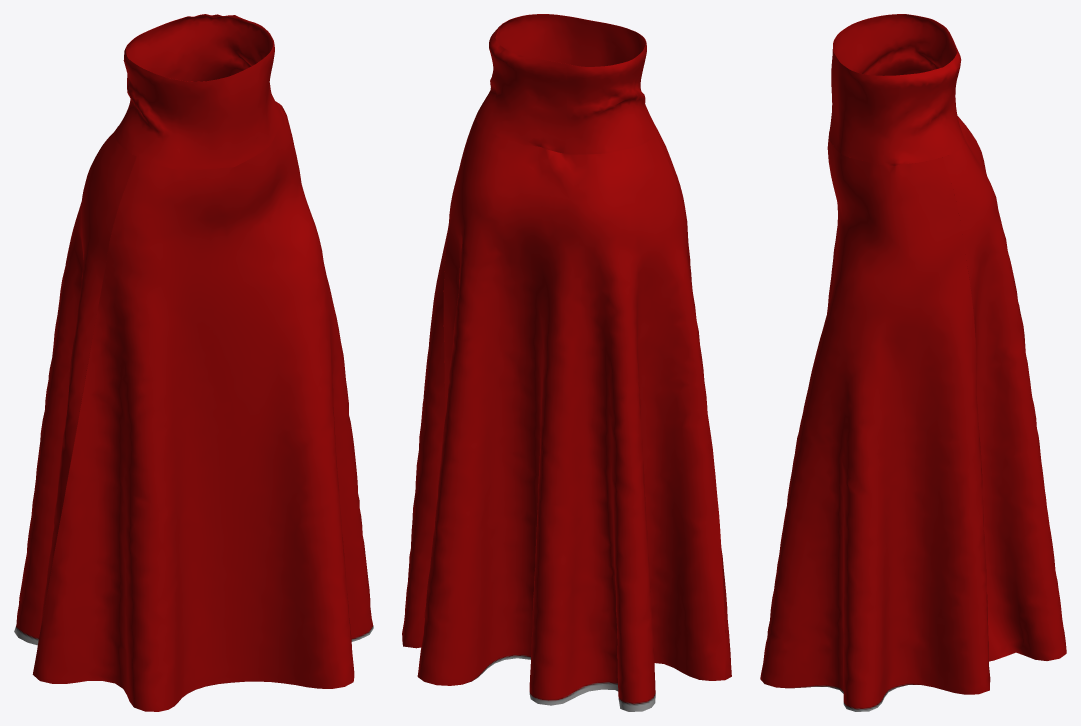
Rendered from female_skirt.glb.
3 renders of one model, left to right at view 1: azimuth 30°, elevation 25°; view 2: azimuth 150°, elevation 25°; view 3: azimuth 270°, elevation 25°, orthographic. The views are drawn at different scales.
Parts seen in each view (by area): view 1: Object_2, Object_5; view 2: Object_2, Object_5; view 3: Object_2, Object_5.
Boxes of the visible parts, left/top/right/bottom form: Object_2: left=14, top=106, right=373, bottom=711; Object_5: left=115, top=14, right=282, bottom=169; Object_2: left=402, top=115, right=731, bottom=711; Object_5: left=476, top=14, right=657, bottom=154; Object_2: left=760, top=116, right=1066, bottom=711; Object_5: left=829, top=14, right=965, bottom=165.
Size of the model in its own units: 0.5309 by 1 by 0.4577.
Materials: 2 (2 with a texture image).
